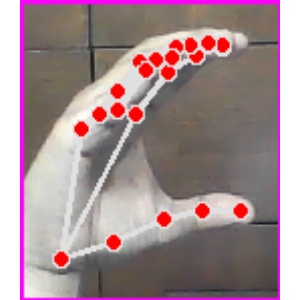C: (22, 2, 278, 300)
